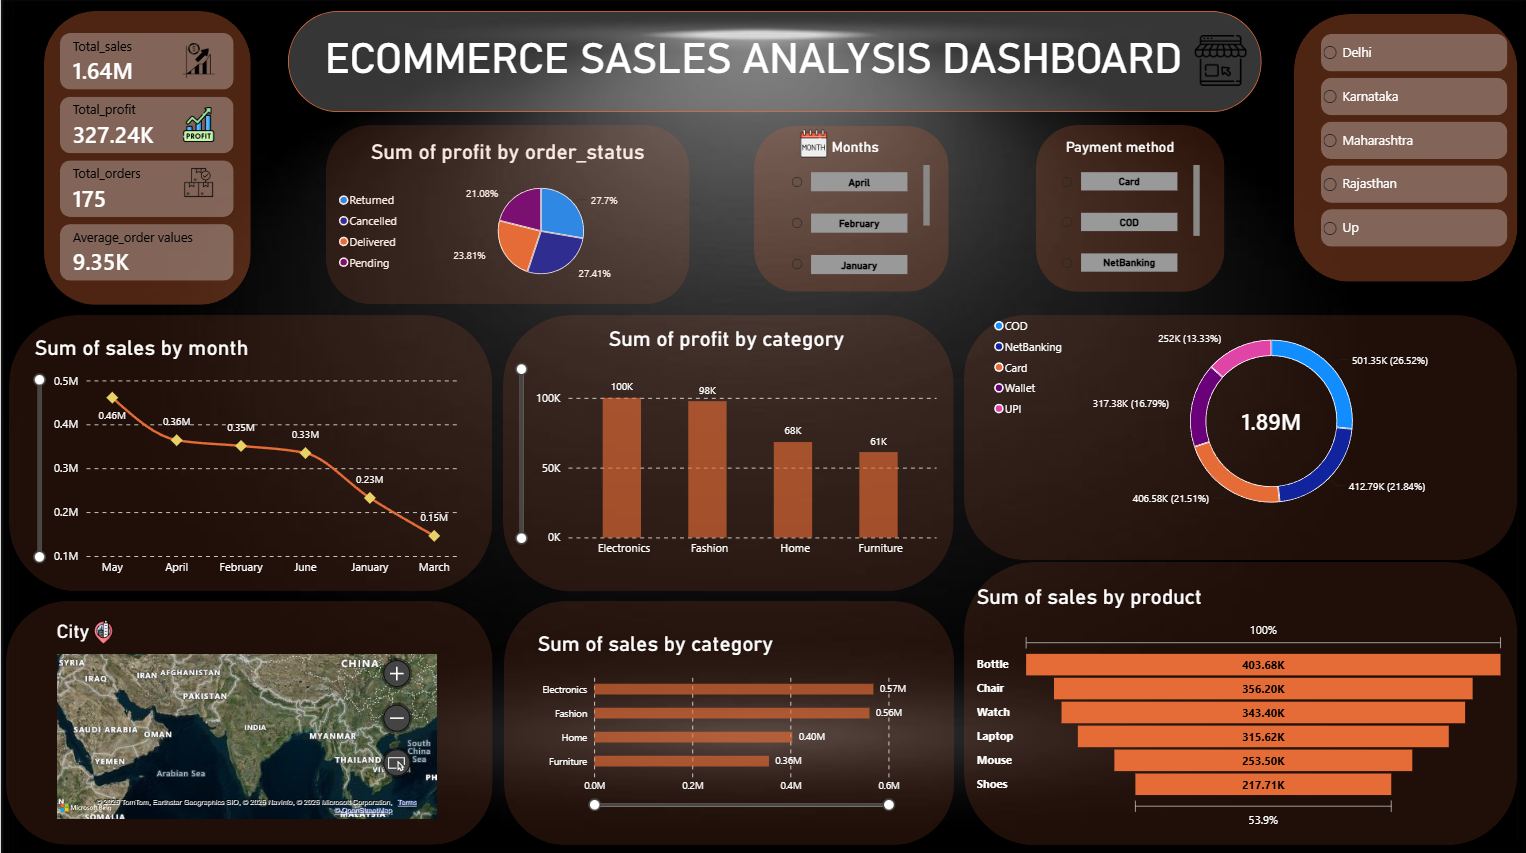

The dashboard page shown, as its layout file describes it:
{"tool":"powerbi","page":{"name":"Page 2","canvas":[1920,1080],"ordinal":0},"visuals":[{"type":"shape","box":[54,14.6,259.7,369.1],"z":0},{"type":"shape","box":[360.4,14.6,1222.6,126.9],"z":1000},{"type":"cardVisual","fields":{"Data":["Measure /DAX.Total_sales","Measure /DAX.Total_profit","Measure /DAX.total_orders","Measure /DAX.average_order values"]},"box":[74.4,42.3,218.8,313.7],"z":2000},{"type":"textbox","title":"ECOMMERCE   SASLES   ANALYSIS   DASHBOARD","box":[407.1,43.8,1105.9,97.8],"z":3000},{"type":"shape","box":[10.2,396.8,606.9,347.2],"z":4000},{"type":"shape","box":[5.8,755.7,611.3,306.4],"z":5000},{"type":"lineChart","fields":{"Category":["public orders.month"],"Y":["Sum(public orders.sales)"]},"box":[26.3,408.5,566.1,335.6],"z":6000},{"type":"filledMap","title":"City","fields":{"Category":["public orders.city"]},"box":[54,766,509.2,280.1],"z":7000},{"type":"shape","box":[630.3,396.8,566.1,347.2],"z":8000},{"type":"shape","box":[631.4,755.6,565.4,306.6],"z":9000},{"type":"clusteredBarChart","fields":{"Category":["public orders.category"],"Y":["Sum(public orders.sales)"]},"box":[658.5,780.2,508.5,253.6],"z":10000},{"type":"columnChart","title":"       Sum of profit by category","fields":{"Category":["public orders.category"],"Y":["Sum(public orders.profit)"]},"box":[631.4,397.2,558.9,323.5],"z":11000},{"type":"shape","box":[1209.7,706.4,694.8,355.8],"z":12000},{"type":"funnel","fields":{"Category":["public orders.product"],"Y":["Sum(public orders.sales)"]},"box":[1209.7,720.6,694.8,336.4],"z":13000},{"type":"pieChart","fields":{"Category":["public orders.order_status"],"Y":["Sum(public orders.profit)"]},"box":[407.5,161.7,456.7,214.8],"z":14000},{"type":"shape","box":[1623.7,19.4,280.8,336.4],"z":15000},{"type":"shape","box":[407.5,157.8,456.7,225.1],"z":16000},{"type":"shape","box":[945.8,159.1,244.5,208.3],"z":17000},{"type":"listSlicer","fields":{"Values":["public orders.state"]},"box":[1657.1,44.3,234.3,278.6],"z":18000},{"type":"advancedSlicerVisual","fields":{"Values":["public orders.month"]},"box":[978.1,208.3,188.9,150.1],"z":19000},{"type":"shape","box":[1300.3,157.8,236.8,209.6],"z":20000},{"type":"advancedSlicerVisual","fields":{"Values":["public orders.payment_mode"]},"box":[1317.1,208.3,188.9,147.5],"z":21000},{"type":"textbox","title":"Months","box":[1020.8,174.7,103.5,24.6],"z":22000},{"type":"textbox","title":"Payment method","box":[1337.8,174.7,146.2,24.6],"z":23000},{"type":"shape","box":[1209.7,397.2,694.8,307.9],"z":24000},{"type":"donutChart","fields":{"Category":["public orders.payment_mode"],"Y":["Sum(public orders.sales)"]},"box":[1247.2,397.2,601.6,266.5],"z":25000},{"type":"image","box":[217.1,55.7,61.4,44.3],"z":26000},{"type":"image","box":[217.1,135.7,61.4,44.3],"z":26001},{"type":"image","box":[217.1,208.6,61.4,44.3],"z":26002},{"type":"image","box":[1482.9,45.7,97.1,64.3],"z":26003},{"type":"image","box":[104.3,780,48.6,31.4],"z":26004},{"type":"image","box":[997.1,162.9,47.1,35.7],"z":26005}]}

Visuals, with their boxes in screenshot pixels (x1, y1, x2, y2), scaled from the page's 1920x1080 canvas onto the 1526x853 screenshot:
shape: (43, 12, 249, 303)
shape: (286, 12, 1258, 112)
cardVisual - Measure /DAX.Total_sales x Measure /DAX.Total_profit: (59, 33, 233, 281)
"ECOMMERCE   SASLES   ANALYSIS   DASHBOARD" textbox: (324, 35, 1203, 112)
shape: (8, 313, 490, 588)
shape: (5, 597, 490, 839)
lineChart - public orders.month x Sum(public orders.sales): (21, 323, 471, 588)
"City" filledMap: (43, 605, 448, 826)
shape: (501, 313, 951, 588)
shape: (502, 597, 951, 839)
clusteredBarChart - public orders.category x Sum(public orders.sales): (523, 616, 928, 817)
"       Sum of profit by category" columnChart: (502, 314, 946, 569)
shape: (961, 558, 1514, 839)
funnel - public orders.product x Sum(public orders.sales): (961, 569, 1514, 835)
pieChart - public orders.order_status x Sum(public orders.profit): (324, 128, 687, 297)
shape: (1291, 15, 1514, 281)
shape: (324, 125, 687, 302)
shape: (752, 126, 946, 290)
listSlicer - public orders.state: (1317, 35, 1503, 255)
advancedSlicerVisual - public orders.month: (777, 165, 928, 283)
shape: (1033, 125, 1222, 290)
advancedSlicerVisual - public orders.payment_mode: (1047, 165, 1197, 281)
"Months" textbox: (811, 138, 894, 157)
"Payment method" textbox: (1063, 138, 1179, 157)
shape: (961, 314, 1514, 557)
donutChart - public orders.payment_mode x Sum(public orders.sales): (991, 314, 1469, 524)
image: (173, 44, 221, 79)
image: (173, 107, 221, 142)
image: (173, 165, 221, 200)
image: (1179, 36, 1256, 87)
image: (83, 616, 122, 641)
image: (792, 129, 830, 157)
